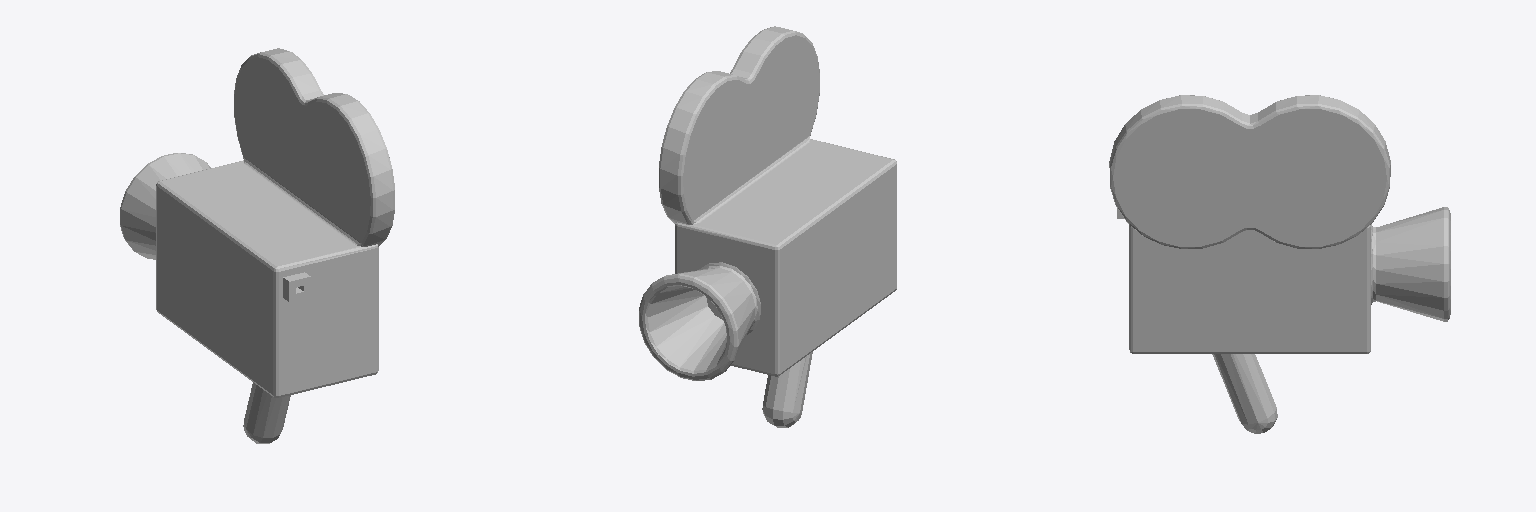
The model's file is camera.obj.
3 renders of one model, left to right at view 1: azimuth 30°, elevation 25°; view 2: azimuth 150°, elevation 25°; view 3: azimuth 270°, elevation 25°, orthographic.
Visible parts, largest first — view 1: MatrixTransform_cam_blue.iv_MatrixTransform__111CAD08_Group__Geo; view 2: MatrixTransform_cam_blue.iv_MatrixTransform__111CAD08_Group__Geo; view 3: MatrixTransform_cam_blue.iv_MatrixTransform__111CAD08_Group__Geo.
Part boxes in pixels (bbox=[...]): MatrixTransform_cam_blue.iv_MatrixTransform__111CAD08_Group__Geo: bbox=[120, 48, 394, 443]; MatrixTransform_cam_blue.iv_MatrixTransform__111CAD08_Group__Geo: bbox=[639, 26, 896, 427]; MatrixTransform_cam_blue.iv_MatrixTransform__111CAD08_Group__Geo: bbox=[1109, 95, 1450, 433].
Bounding box in the file's own units: 0.032 × 0.0974 × 0.0847.